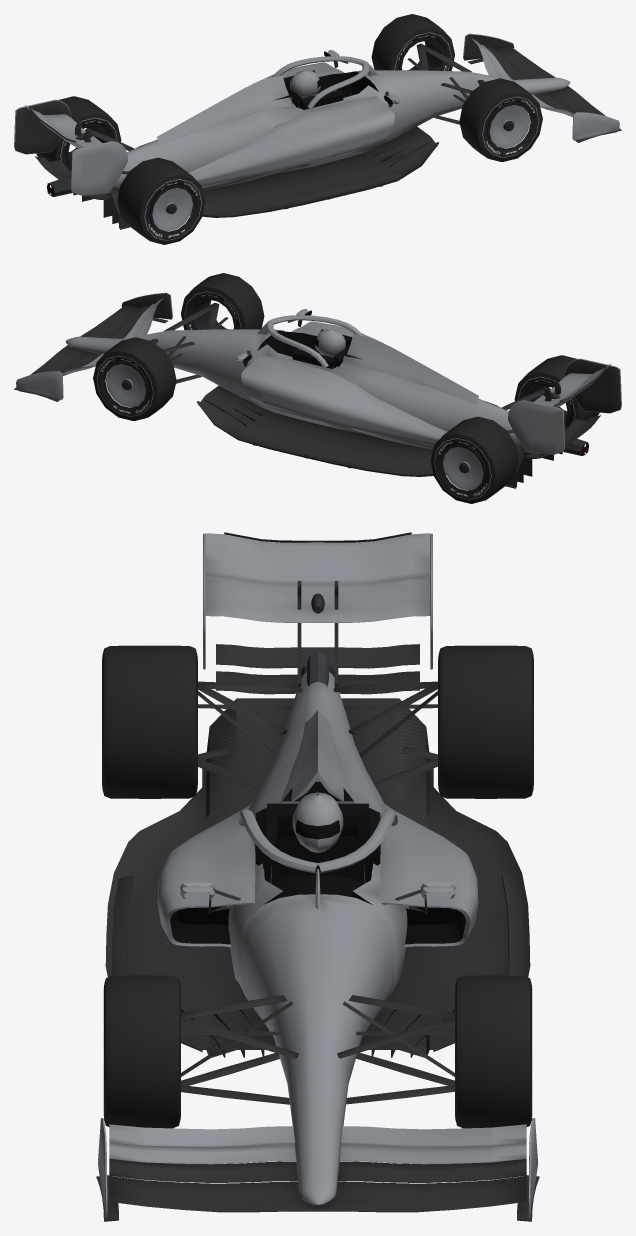
Rendered from car_far.glb.
3 views of the same model, one above another, from view 1: azimuth 30°, elevation 25°; view 2: azimuth 150°, elevation 25°; view 3: azimuth 270°, elevation 25° (orthographic). The views are drawn at different scales.
Parts seen in each view (by area): view 1: body, wheel_RR, wheel_FR, wheel_FL, wheel_RL, helmet, drs_flap; view 2: body, wheel_RL, wheel_FL, wheel_FR, wheel_RR, helmet, drs_flap; view 3: body, wheel_RL, wheel_RR, wheel_FL, wheel_FR, drs_flap, helmet.
Part boxes in pixels (x1,y1,x2,y2): body: [14, 33, 621, 229]; wheel_RR: [117, 157, 205, 244]; wheel_FR: [459, 78, 542, 161]; wheel_FL: [371, 14, 454, 70]; wheel_RL: [36, 96, 121, 168]; helmet: [290, 70, 320, 98]; drs_flap: [25, 105, 83, 148]; body: [14, 292, 621, 488]; wheel_RL: [430, 416, 518, 503]; wheel_FL: [93, 337, 176, 420]; wheel_FR: [181, 273, 264, 329]; wheel_RR: [514, 355, 599, 427]; helmet: [315, 329, 345, 357]; drs_flap: [552, 364, 610, 407]; body: [96, 533, 539, 1221]; wheel_RL: [438, 645, 533, 798]; wheel_RR: [102, 645, 197, 798]; wheel_FL: [455, 975, 532, 1128]; wheel_FR: [103, 975, 180, 1128]; drs_flap: [205, 532, 430, 584]; helmet: [292, 792, 343, 852].
Bounding box in the file's own units: 5.62 × 0.9904 × 2.04.
Materials: 7 (2 with a texture image).
